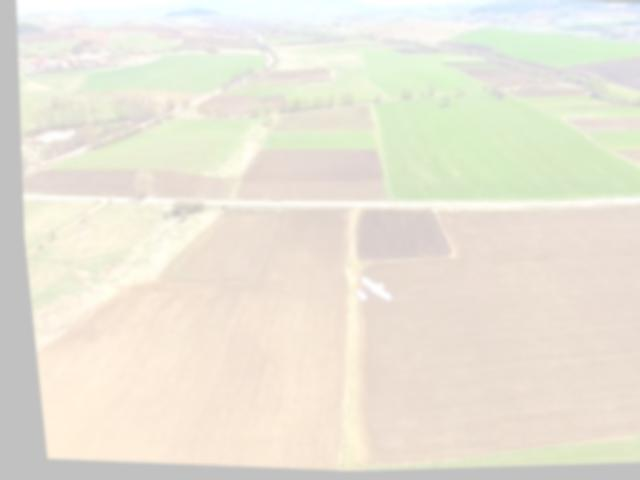uav: (337, 267, 392, 312)
